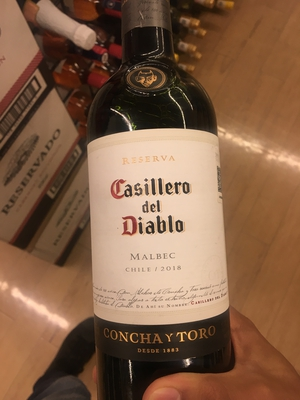casillero del diablo malbec: (84, 19, 245, 400)
